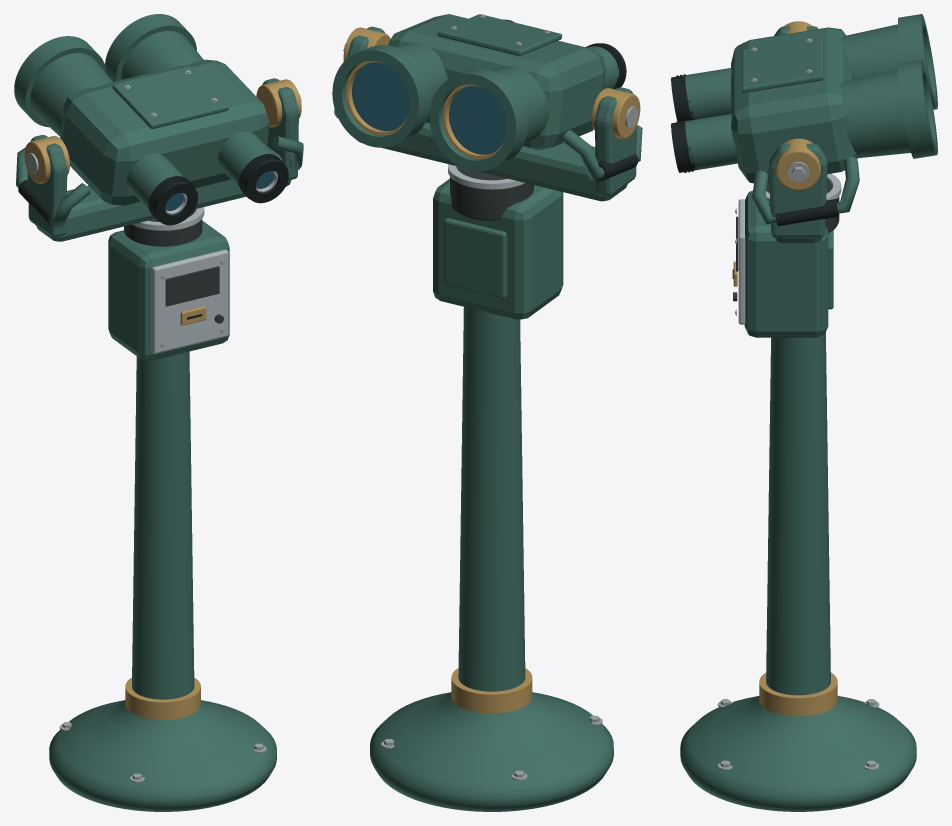
Rendered from city-scenic-binocular-viewer.glb.
3 views of the same model, side by side, from view 1: azimuth 30°, elevation 25°; view 2: azimuth 150°, elevation 25°; view 3: azimuth 270°, elevation 25° (orthographic). The views are drawn at different scales.
Parts seen in each view (by area): view 1: Assembly | Deep green enamel, Assembly | Satin stainless steel, Assembly | Antique brass accent, Assembly | Charcoal elastomer, Assembly | Graphite cast metal, Assembly | Dull galvanized hardware; view 2: Assembly | Deep green enamel, Assembly | Opaque optical blue coating, Assembly | Antique brass accent, Assembly | Graphite cast metal, Assembly | Charcoal elastomer, Assembly | Satin stainless steel, Assembly | Dull galvanized hardware; view 3: Assembly | Deep green enamel, Assembly | Antique brass accent, Assembly | Charcoal elastomer, Assembly | Satin stainless steel, Assembly | Dull galvanized hardware, Assembly | Graphite cast metal.
Part boxes in pixels (bbox=[...]): Assembly | Deep green enamel: bbox=[14, 14, 303, 811]; Assembly | Satin stainless steel: bbox=[132, 171, 277, 353]; Assembly | Antique brass accent: bbox=[24, 79, 301, 719]; Assembly | Charcoal elastomer: bbox=[18, 153, 288, 319]; Assembly | Graphite cast metal: bbox=[124, 209, 223, 323]; Assembly | Dull galvanized hardware: bbox=[26, 70, 301, 782]; Assembly | Deep green enamel: bbox=[332, 14, 642, 811]; Assembly | Opaque optical blue coating: bbox=[352, 62, 506, 154]; Assembly | Antique brass accent: bbox=[343, 27, 640, 713]; Assembly | Graphite cast metal: bbox=[450, 166, 533, 220]; Assembly | Charcoal elastomer: bbox=[503, 19, 638, 181]; Assembly | Satin stainless steel: bbox=[448, 164, 524, 189]; Assembly | Dull galvanized hardware: bbox=[343, 14, 638, 780]; Assembly | Deep green enamel: bbox=[680, 14, 937, 811]; Assembly | Antique brass accent: bbox=[733, 21, 837, 716]; Assembly | Charcoal elastomer: bbox=[671, 74, 839, 278]; Assembly | Satin stainless steel: bbox=[738, 173, 841, 324]; Assembly | Dull galvanized hardware: bbox=[717, 38, 879, 770]; Assembly | Graphite cast metal: bbox=[733, 179, 839, 301].
Bounding box in the file's own units: 0.6359 × 1.59 × 0.5306.
